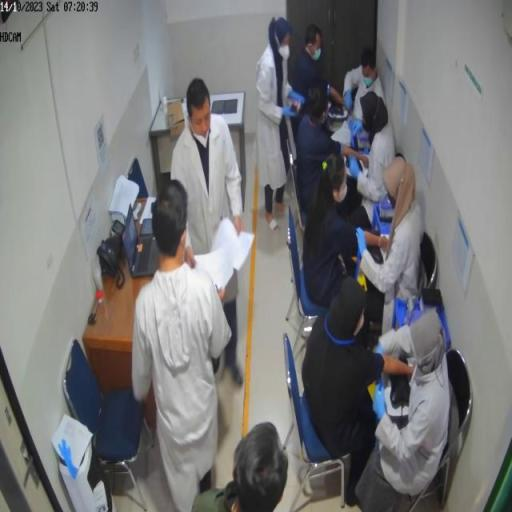person: (132, 179, 234, 509), (302, 278, 415, 505), (171, 78, 248, 387), (356, 308, 451, 510), (171, 77, 246, 259), (302, 155, 382, 310), (256, 18, 307, 234), (359, 157, 424, 313), (297, 82, 367, 222), (193, 422, 290, 512), (346, 91, 396, 228), (293, 24, 346, 111), (343, 47, 384, 121)
